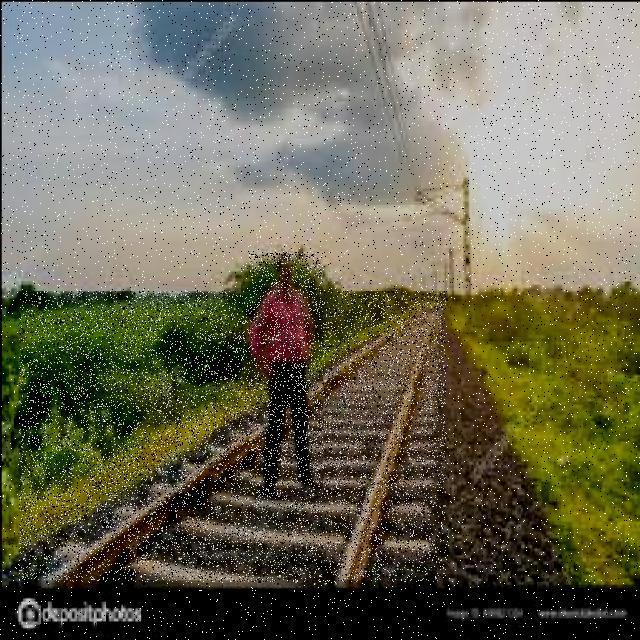danger: (249, 252, 322, 496)
rail: (19, 292, 446, 582)
